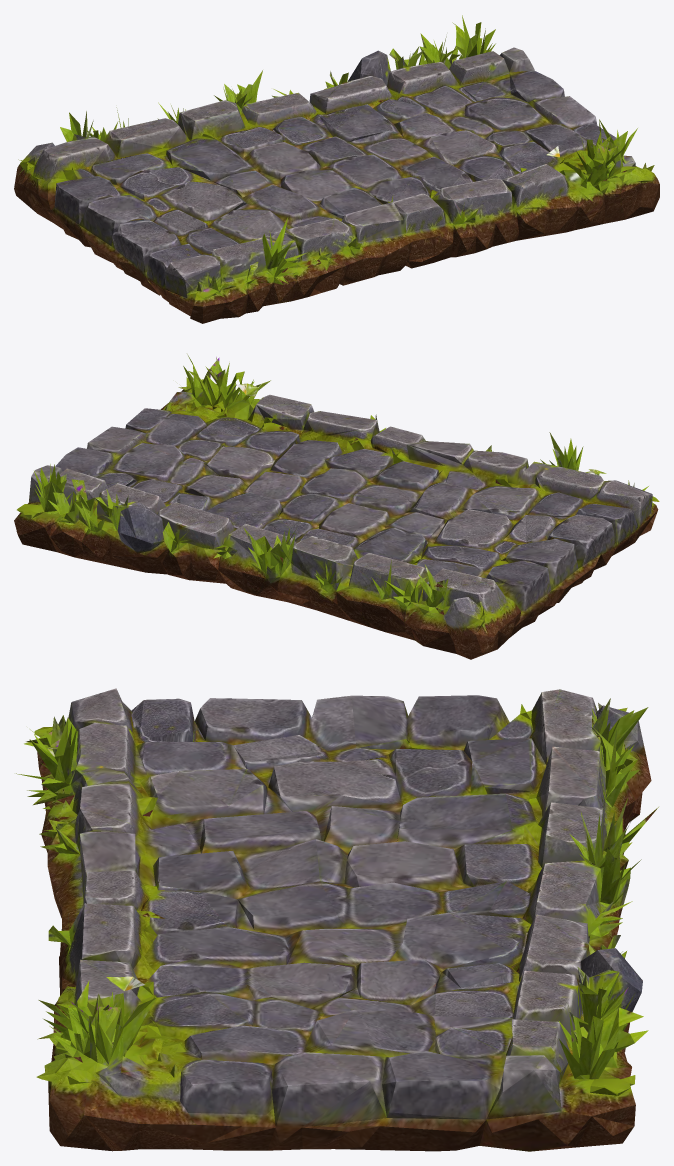
Rendered from path_straight.glb.
3 views of the same model, one above another, from view 1: azimuth 30°, elevation 25°; view 2: azimuth 150°, elevation 25°; view 3: azimuth 270°, elevation 25° (orthographic). The views are drawn at different scales.
Parts seen in each view (by area): view 1: output_unwrapped; view 2: output_unwrapped; view 3: output_unwrapped.
Boxes of the visible parts, <box> form: output_unwrapped: <box>14,15,659,323</box>; output_unwrapped: <box>14,354,659,659</box>; output_unwrapped: <box>16,688,658,1151</box>.
Bounding box in the file's own units: 1.9 × 0.3291 × 1.32.
1 material, 1 textured.
